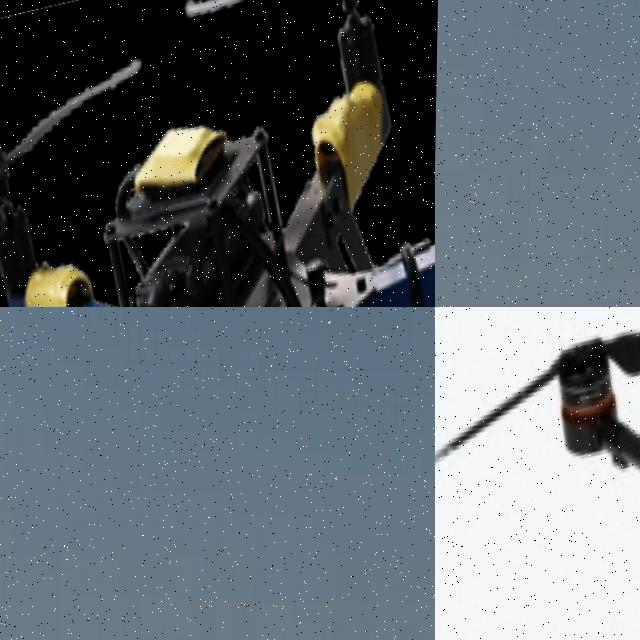drone: (0, 0, 435, 307), (435, 307, 640, 640)
